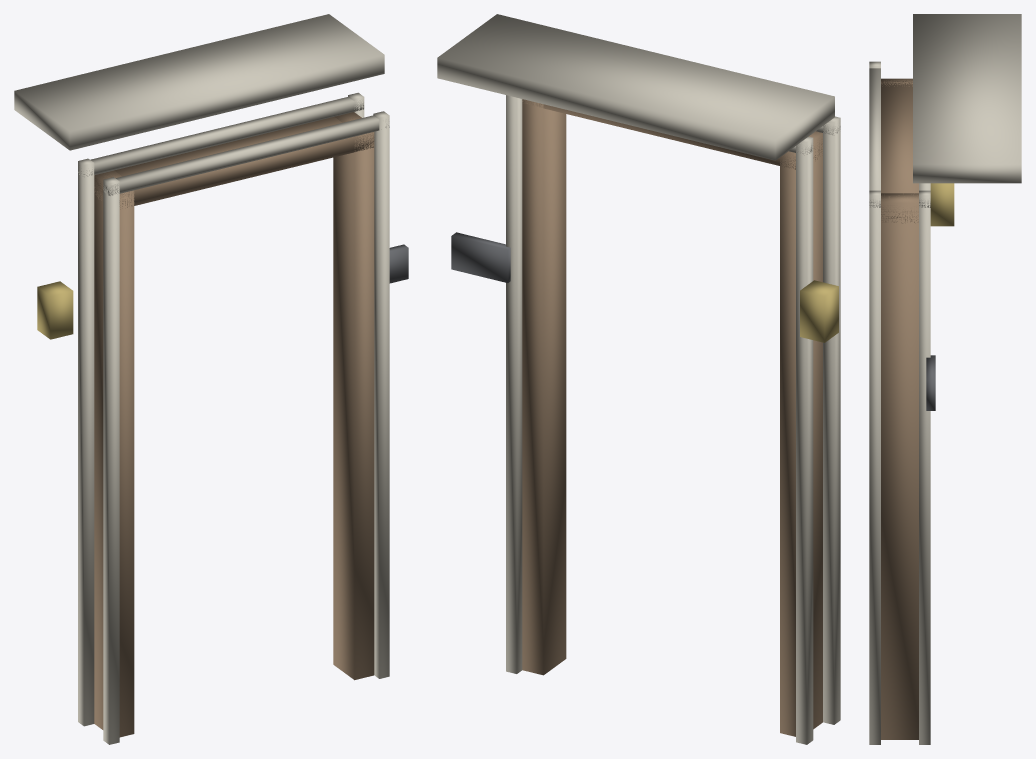
The model's file is doorway_motel_w96_h220_d16.glb.
3 renders of one model, left to right at view 1: azimuth 30°, elevation 25°; view 2: azimuth 150°, elevation 25°; view 3: azimuth 270°, elevation 25°, orthographic. The views are drawn at different scales.
Parts seen in each view (by area): view 1: world; view 2: world; view 3: world.
Boxes of the visible parts, <box> form: world: <box>14,14,408,744</box>; world: <box>437,14,840,744</box>; world: <box>869,14,1021,744</box>.
Bounding box in the file's own units: 1.56 × 2.51 × 0.5882.
